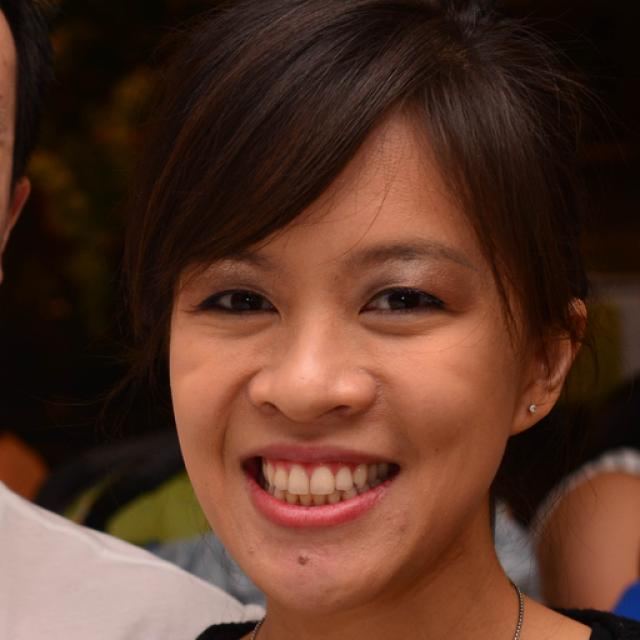Acne: (280, 545, 317, 578)
